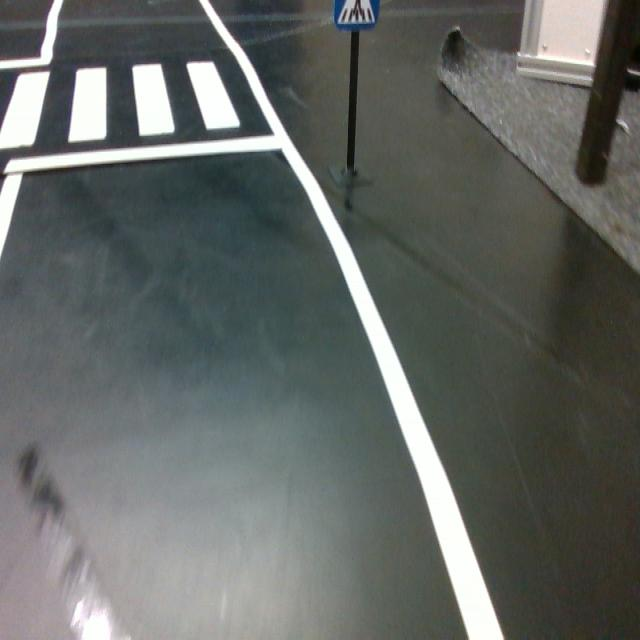crosswalk-sign: (333, 0, 381, 32)
